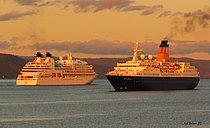Ship: (104, 34, 206, 96), (11, 48, 100, 90)
